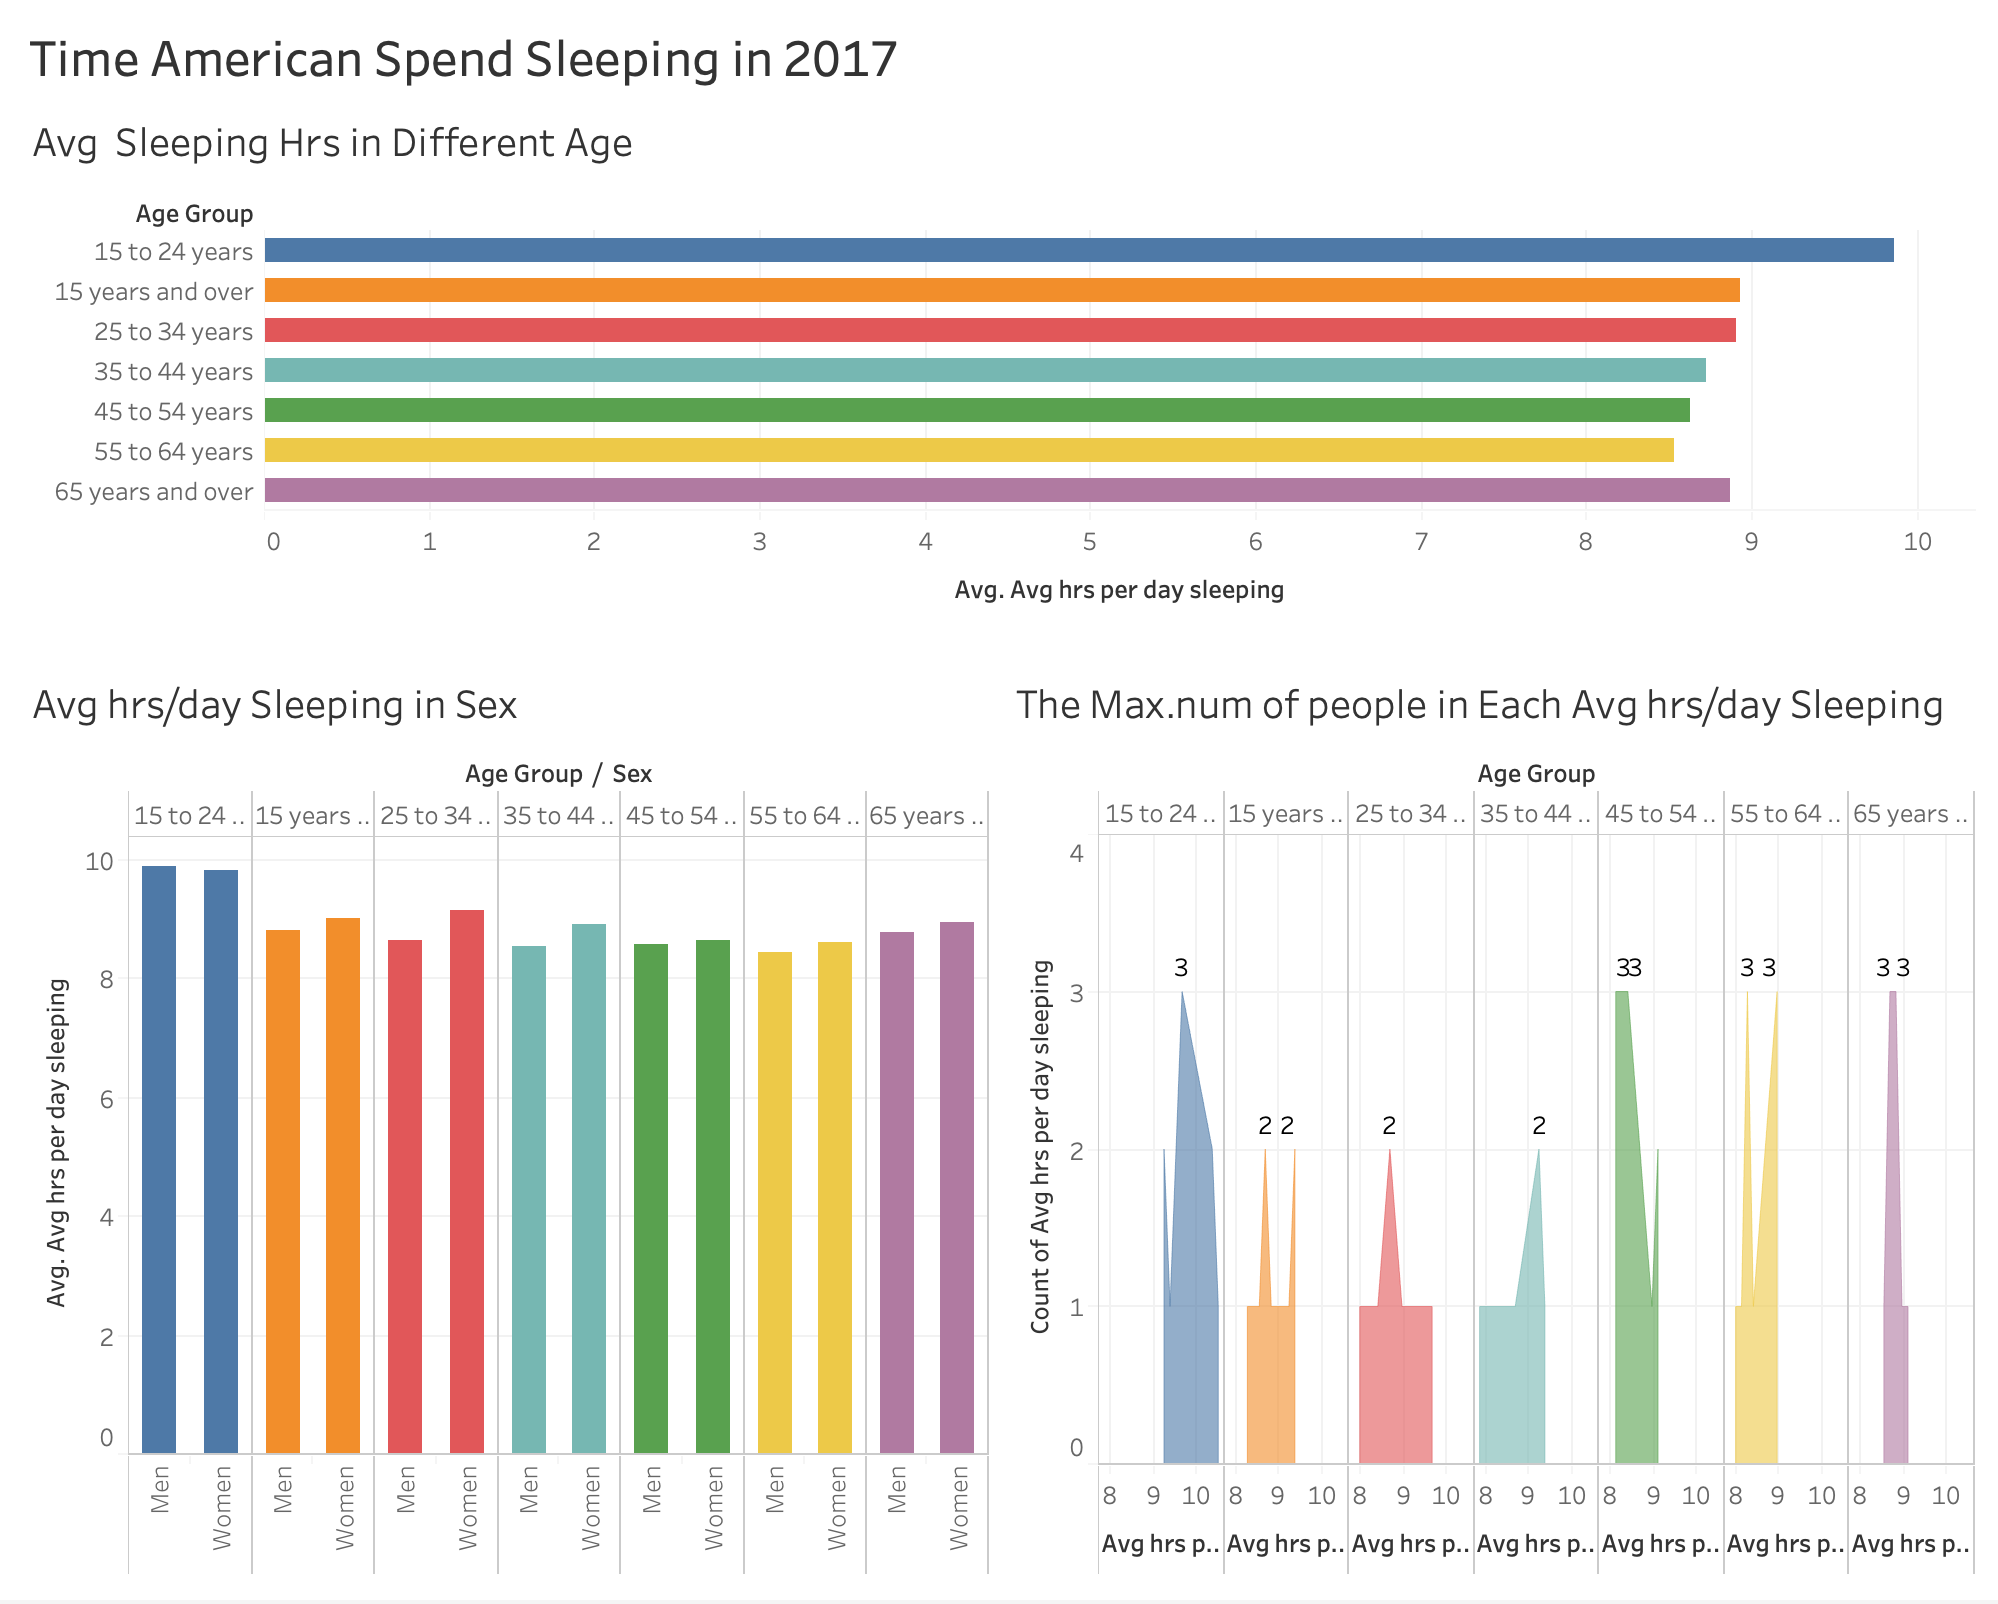

The page's visual inventory and layout, read from the dashboard file:
{"tool":"tableau","page":{"name":"Dashboard 1","canvas":[1000,800],"ordinal":0},"visuals":[{"type":"worksheet","box":[0,0,1000,800]},{"type":"worksheet","param":"vert","box":[8,8,984,784]},{"type":"worksheet","box":[8,8,984,41]},{"type":"worksheet","param":"horz","box":[8,49,984,743]},{"type":"worksheet","param":"horz","box":[8,49,984,743]},{"type":"worksheet","param":"horz","box":[8,49,984,743]},{"type":"worksheet","param":"horz","box":[8,49,984,743]},{"type":"worksheet","param":"horz","box":[8,49,984,743]},{"type":"worksheet","box":[8,49,984,743]},{"type":"worksheet","title":"Sheet 2","mark":"Automatic","rows":["Age Group"],"cols":["Avg hrs per day sleeping"],"box":[8,49,984,281.4]},{"type":"worksheet","title":"Sheet 1","mark":"Bar","rows":["Avg hrs per day sleeping"],"cols":["Age Group","Sex"],"box":[8,330.4,492,461.6]},{"type":"worksheet","title":"Sheet 4","mark":"Area","rows":["Avg hrs per day sleeping"],"cols":["Age Group","Avg hrs per day sleeping (bin)"],"box":[500,330.4,492,461.6]}]}

Visuals, with their boxes in screenshot pixels (x1, y1, x2, y2), scaled from the page's 1000x800 canvas onto the 1998x1604 screenshot:
worksheet: region(0, 0, 1997, 1603)
worksheet: region(16, 16, 1982, 1588)
worksheet: region(16, 16, 1982, 98)
worksheet: region(16, 98, 1982, 1588)
worksheet: region(16, 98, 1982, 1588)
worksheet: region(16, 98, 1982, 1588)
worksheet: region(16, 98, 1982, 1588)
worksheet: region(16, 98, 1982, 1588)
worksheet: region(16, 98, 1982, 1588)
"Sheet 2" worksheet: region(16, 98, 1982, 662)
"Sheet 1" worksheet (Bar marks): region(16, 662, 999, 1588)
"Sheet 4" worksheet (Area marks): region(999, 662, 1982, 1588)
